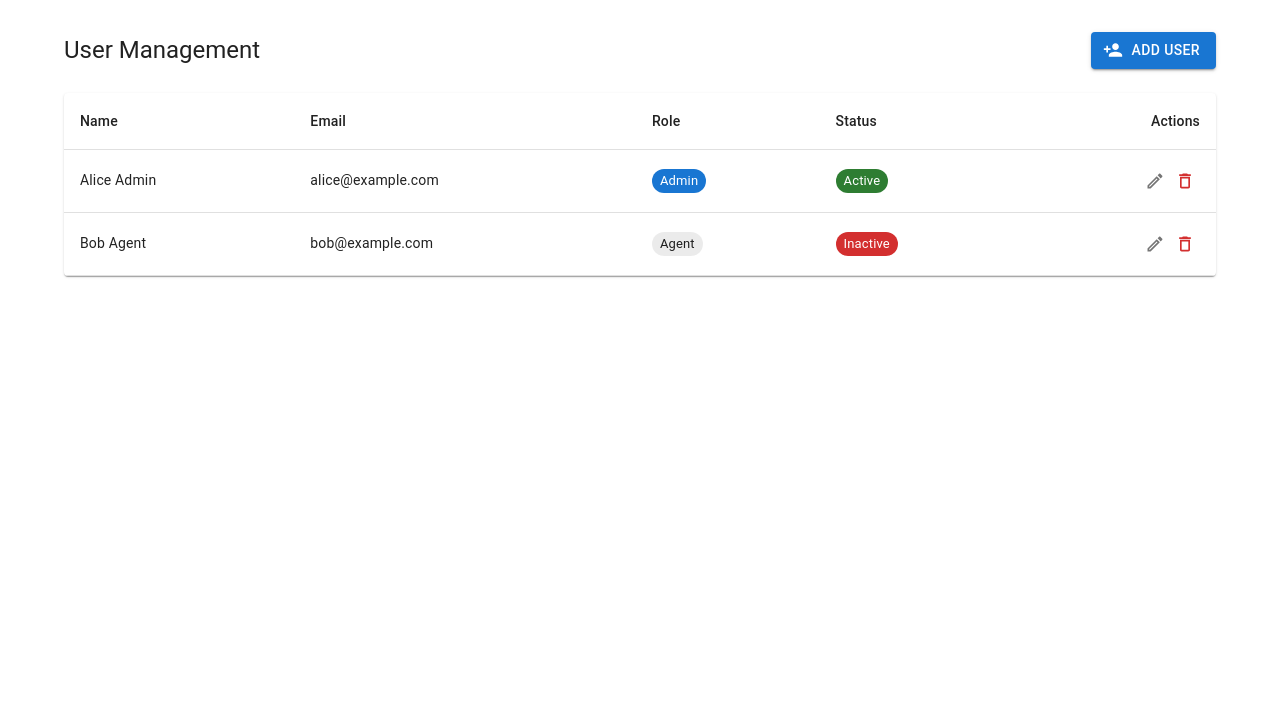
Scenario: UsersPage › create user › opens the create dialog when "Add User" is clicked
This screenshot has width=1280, height=720.
Expected: the text "Alice Admin" is shown, [64,149,294,212]
Click the button "Add User": (1154, 50) [1092,32,1216,68]
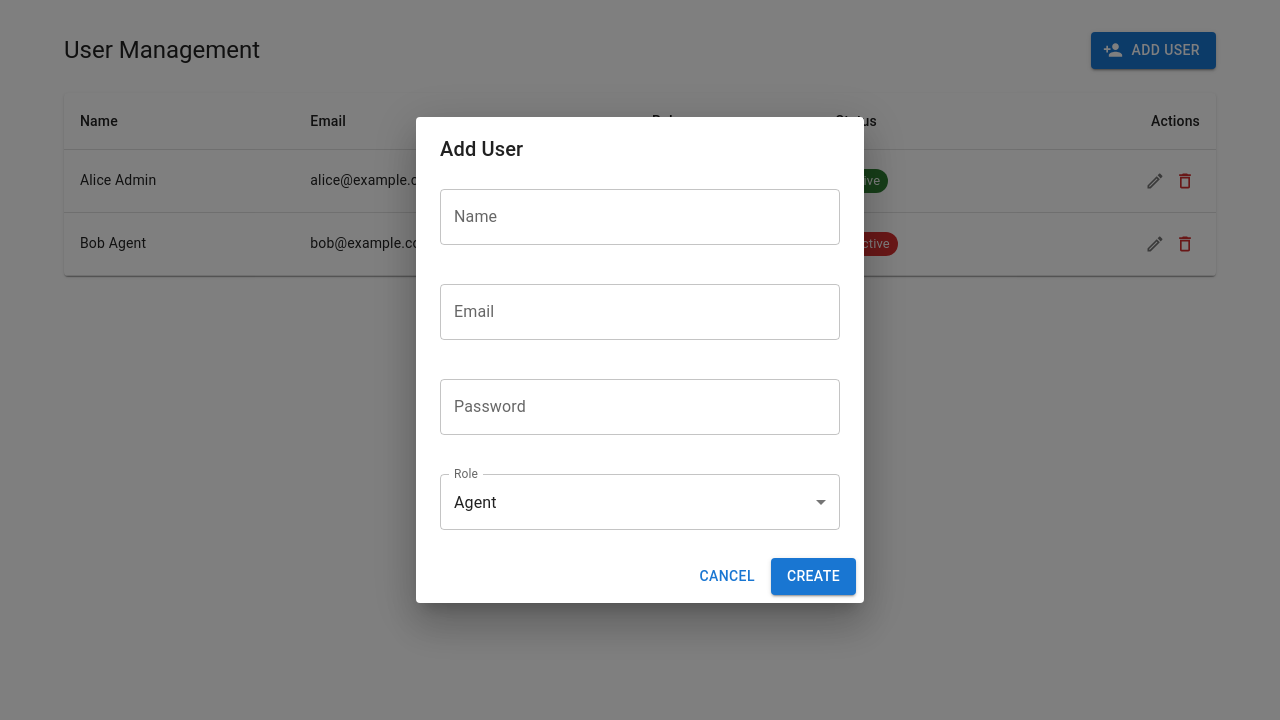
Expected: the dialog is shown, [416,117,864,603]
Expected: the heading "Add User" is shown, [440,137,523,161]
